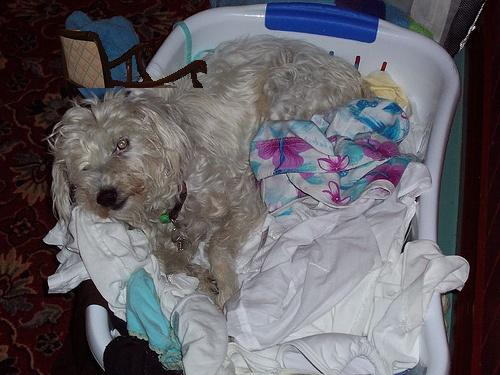tampered: (59, 30, 207, 88)
